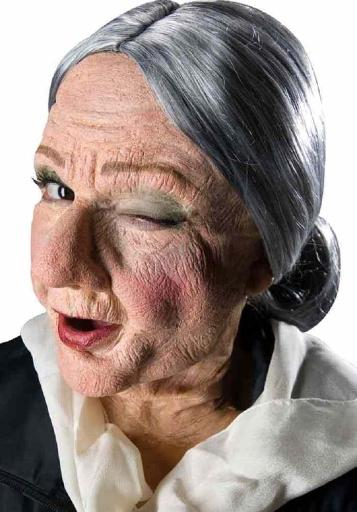left_eye: (118, 196, 181, 233)
left_lip_corner: (111, 317, 126, 337)
right_eye: (33, 173, 76, 204)
